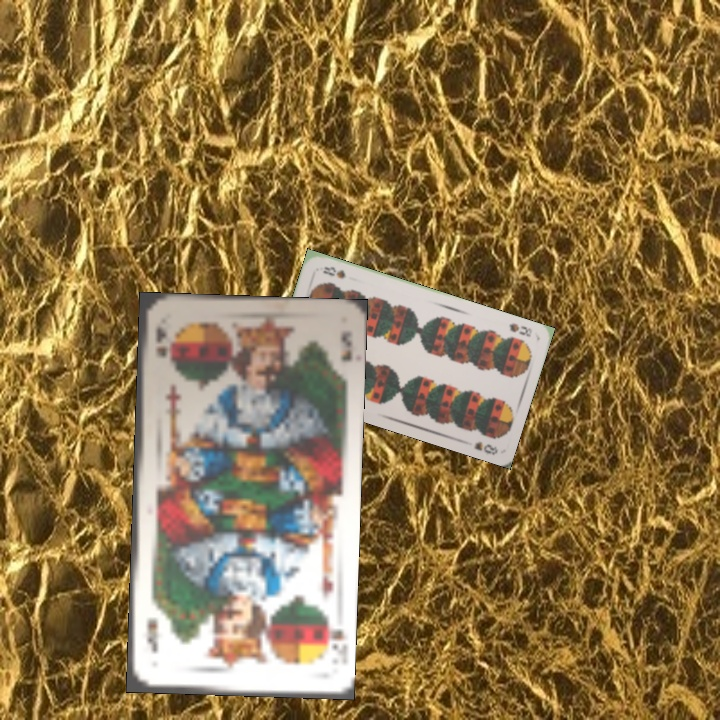S8: (505, 319, 535, 339)
SK: (320, 613, 348, 662), (151, 321, 168, 360)
